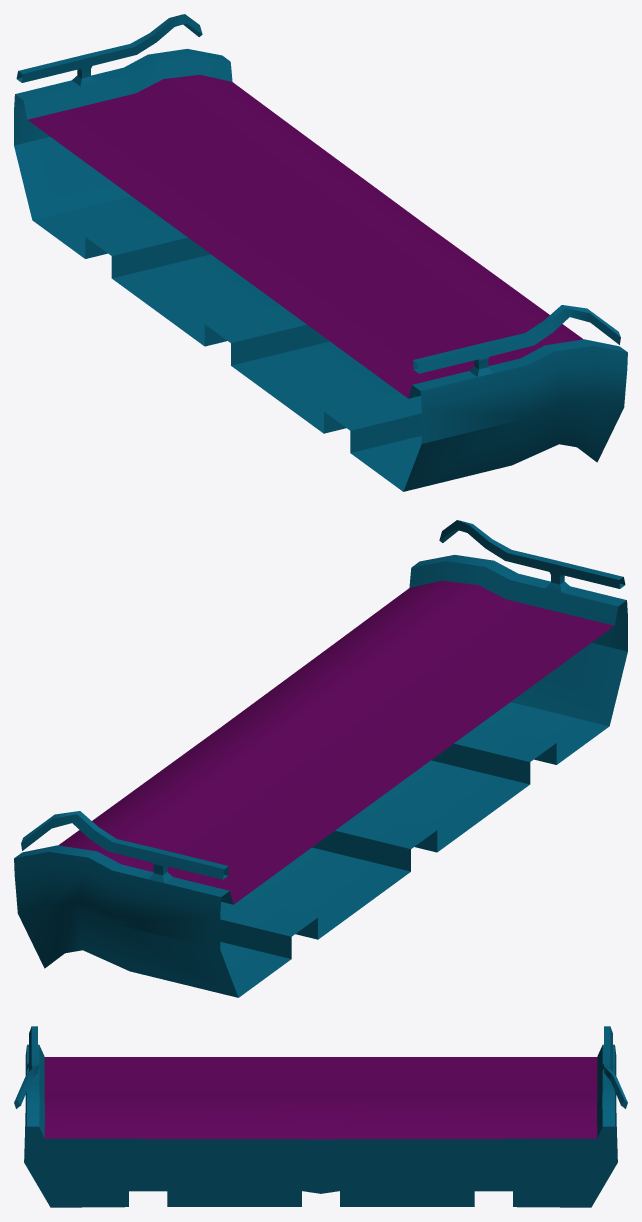
Rendered from MESH_HighwayRuinedPlatform(FIXED).fbx.
3 views of the same model, one above another, from view 1: azimuth 30°, elevation 25°; view 2: azimuth 150°, elevation 25°; view 3: azimuth 270°, elevation 25° (orthographic). The views are drawn at different scales.
Parts seen in each view (by area): view 1: MESH_Highway_RuinedPlatform; view 2: MESH_Highway_RuinedPlatform; view 3: MESH_Highway_RuinedPlatform.
Part boxes in pixels (x1=…): MESH_Highway_RuinedPlatform: x1=14, y1=14, x2=627, y2=491; MESH_Highway_RuinedPlatform: x1=14, y1=520, x2=627, y2=997; MESH_Highway_RuinedPlatform: x1=14, y1=1026, x2=627, y2=1207.
Size of the model in its own units: 4.52 by 3.64 by 15.98.
